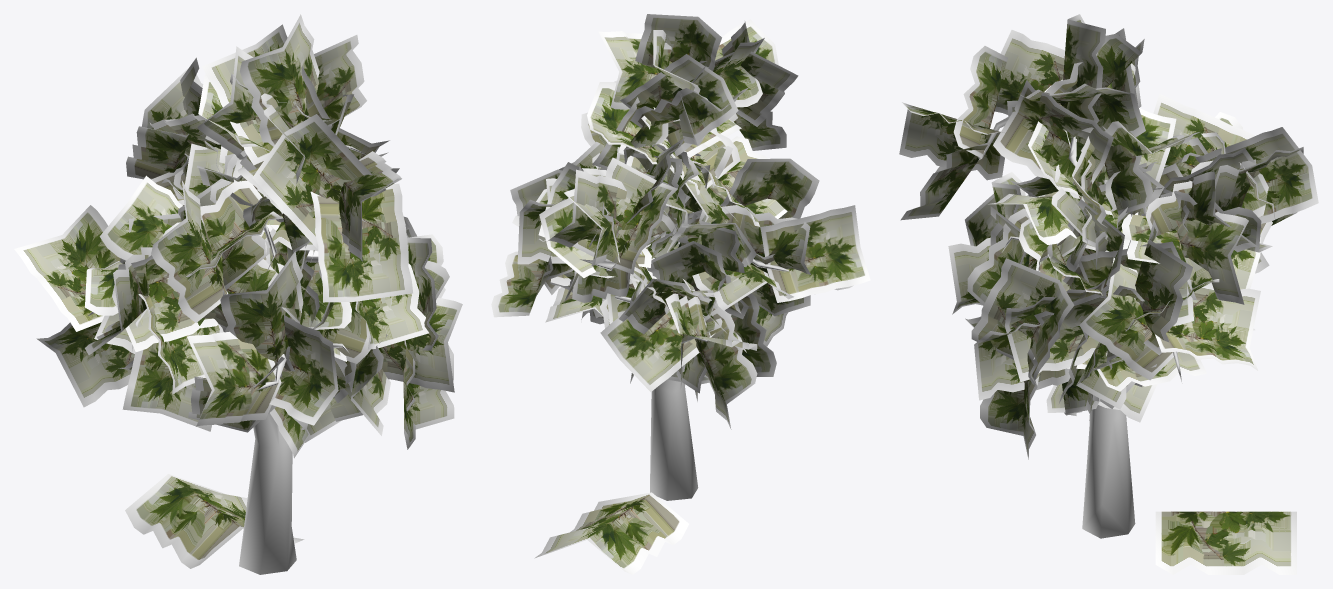
The model's file is Tree_3_FULL_DECIMATED.fbx.
3 views of the same model, side by side, from view 1: azimuth 30°, elevation 25°; view 2: azimuth 150°, elevation 25°; view 3: azimuth 270°, elevation 25° (orthographic). The views are drawn at different scales.
Parts seen in each view (by area): view 1: Tree|Leaf|Dupli|33, Tree, Tree|Leaf|Dupli|36, Leaf, Tree|Leaf|Dupli|145, Tree|Leaf|Dupli|124, Tree|Leaf|Dupli|76, Tree|Leaf|Dupli|31, Tree|Leaf|Dupli|132, Tree|Leaf|Dupli|133, Tree|Leaf|Dupli|144, Tree|Leaf|Dupli|65 (+34 smaller); view 2: Tree|Leaf|Dupli|46, Leaf, Tree, Tree|Leaf|Dupli|16, Tree|Leaf|Dupli|142, Tree|Leaf|Dupli|27, Tree|Leaf|Dupli|76, Tree|Leaf|Dupli|144, Tree|Leaf|Dupli|31, Tree|Leaf|Dupli|13, Tree|Leaf|Dupli|71, Tree|Leaf|Dupli|36 (+37 smaller); view 3: Leaf, Tree, Tree|Leaf|Dupli|34, Tree|Leaf|Dupli|138, Tree|Leaf|Dupli|55, Tree|Leaf|Dupli|59, Tree|Leaf|Dupli|13, Tree|Leaf|Dupli|56, Tree|Leaf|Dupli|87, Tree|Leaf|Dupli|35, Tree|Leaf|Dupli|32, Tree|Leaf|Dupli|36 (+42 smaller).
Part boxes in pixels (x1,y1,x2,y2): Tree|Leaf|Dupli|33: [310, 183, 412, 302]; Tree: [132, 145, 367, 574]; Tree|Leaf|Dupli|36: [252, 114, 385, 249]; Leaf: [125, 474, 304, 568]; Tree|Leaf|Dupli|145: [14, 205, 120, 331]; Tree|Leaf|Dupli|124: [186, 331, 281, 426]; Tree|Leaf|Dupli|76: [151, 180, 228, 322]; Tree|Leaf|Dupli|31: [240, 14, 319, 146]; Tree|Leaf|Dupli|132: [220, 251, 303, 365]; Tree|Leaf|Dupli|133: [269, 315, 338, 425]; Tree|Leaf|Dupli|144: [36, 312, 134, 407]; Tree|Leaf|Dupli|65: [355, 298, 462, 392]; Tree|Leaf|Dupli|46: [760, 205, 870, 302]; Leaf: [534, 492, 688, 574]; Tree: [580, 171, 789, 500]; Tree|Leaf|Dupli|16: [573, 157, 677, 274]; Tree|Leaf|Dupli|142: [600, 310, 699, 391]; Tree|Leaf|Dupli|27: [620, 54, 738, 157]; Tree|Leaf|Dupli|76: [720, 158, 819, 218]; Tree|Leaf|Dupli|144: [695, 307, 757, 429]; Tree|Leaf|Dupli|31: [635, 14, 721, 71]; Tree|Leaf|Dupli|13: [548, 169, 626, 247]; Tree|Leaf|Dupli|71: [722, 205, 810, 274]; Tree|Leaf|Dupli|36: [722, 21, 798, 126]; Leaf: [1155, 511, 1296, 574]; Tree: [944, 116, 1182, 538]; Tree|Leaf|Dupli|34: [993, 80, 1113, 198]; Tree|Leaf|Dupli|138: [971, 258, 1074, 386]; Tree|Leaf|Dupli|55: [1155, 280, 1260, 370]; Tree|Leaf|Dupli|59: [1079, 257, 1177, 380]; Tree|Leaf|Dupli|13: [1195, 127, 1318, 223]; Tree|Leaf|Dupli|56: [1135, 220, 1192, 355]; Tree|Leaf|Dupli|87: [1177, 211, 1248, 304]; Tree|Leaf|Dupli|35: [899, 102, 1004, 180]; Tree|Leaf|Dupli|32: [994, 30, 1065, 114]; Tree|Leaf|Dupli|36: [953, 46, 1007, 160].
Bounding box in the file's own units: 2286 × 3429 × 2450.
